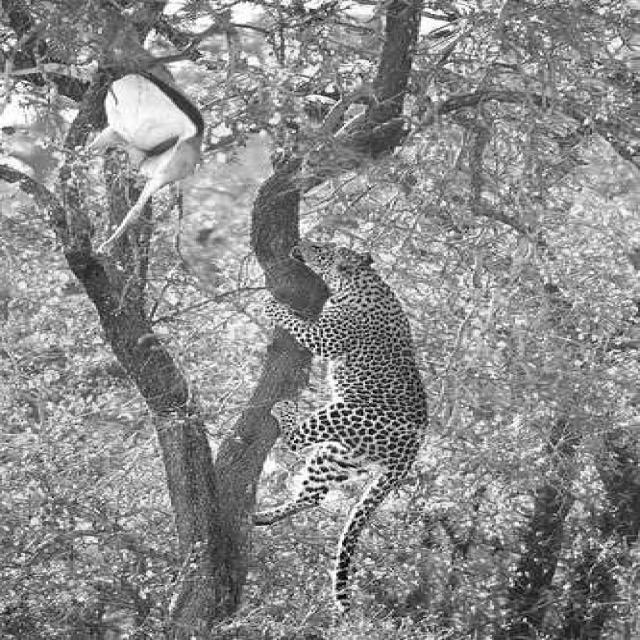Deer: (82, 70, 206, 255)
Leopard: (248, 238, 429, 613)
